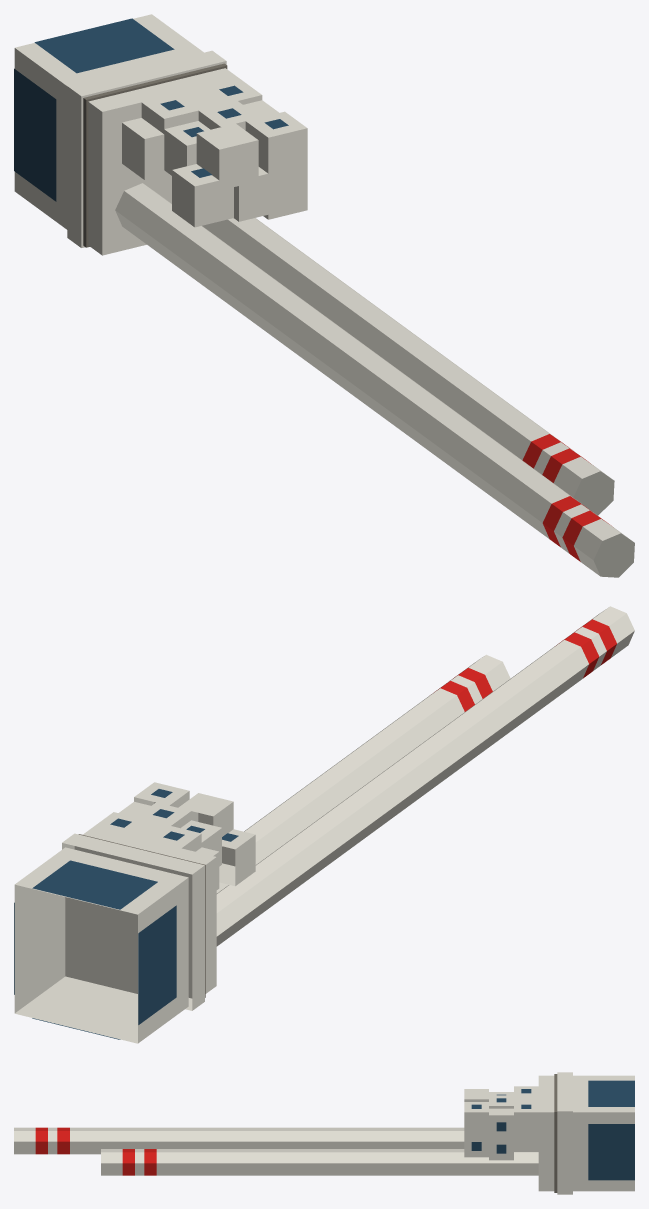
The model's file is construction_1.glb.
The picture shows the model from 3 angles, top to bottom: view 1: azimuth 30°, elevation 25°; view 2: azimuth 150°, elevation 25°; view 3: azimuth 270°, elevation 25°; orthographic projection. The views are drawn at different scales.
Parts seen in each view (by area): view 1: construction_1; view 2: construction_1; view 3: construction_1.
Part boxes in pixels (<box>): construction_1: <box>14,14,634,577</box>; construction_1: <box>14,606,634,1043</box>; construction_1: <box>14,1072,634,1194</box>.
Size of the model in its own units: 14.8 by 14.8 by 100.
